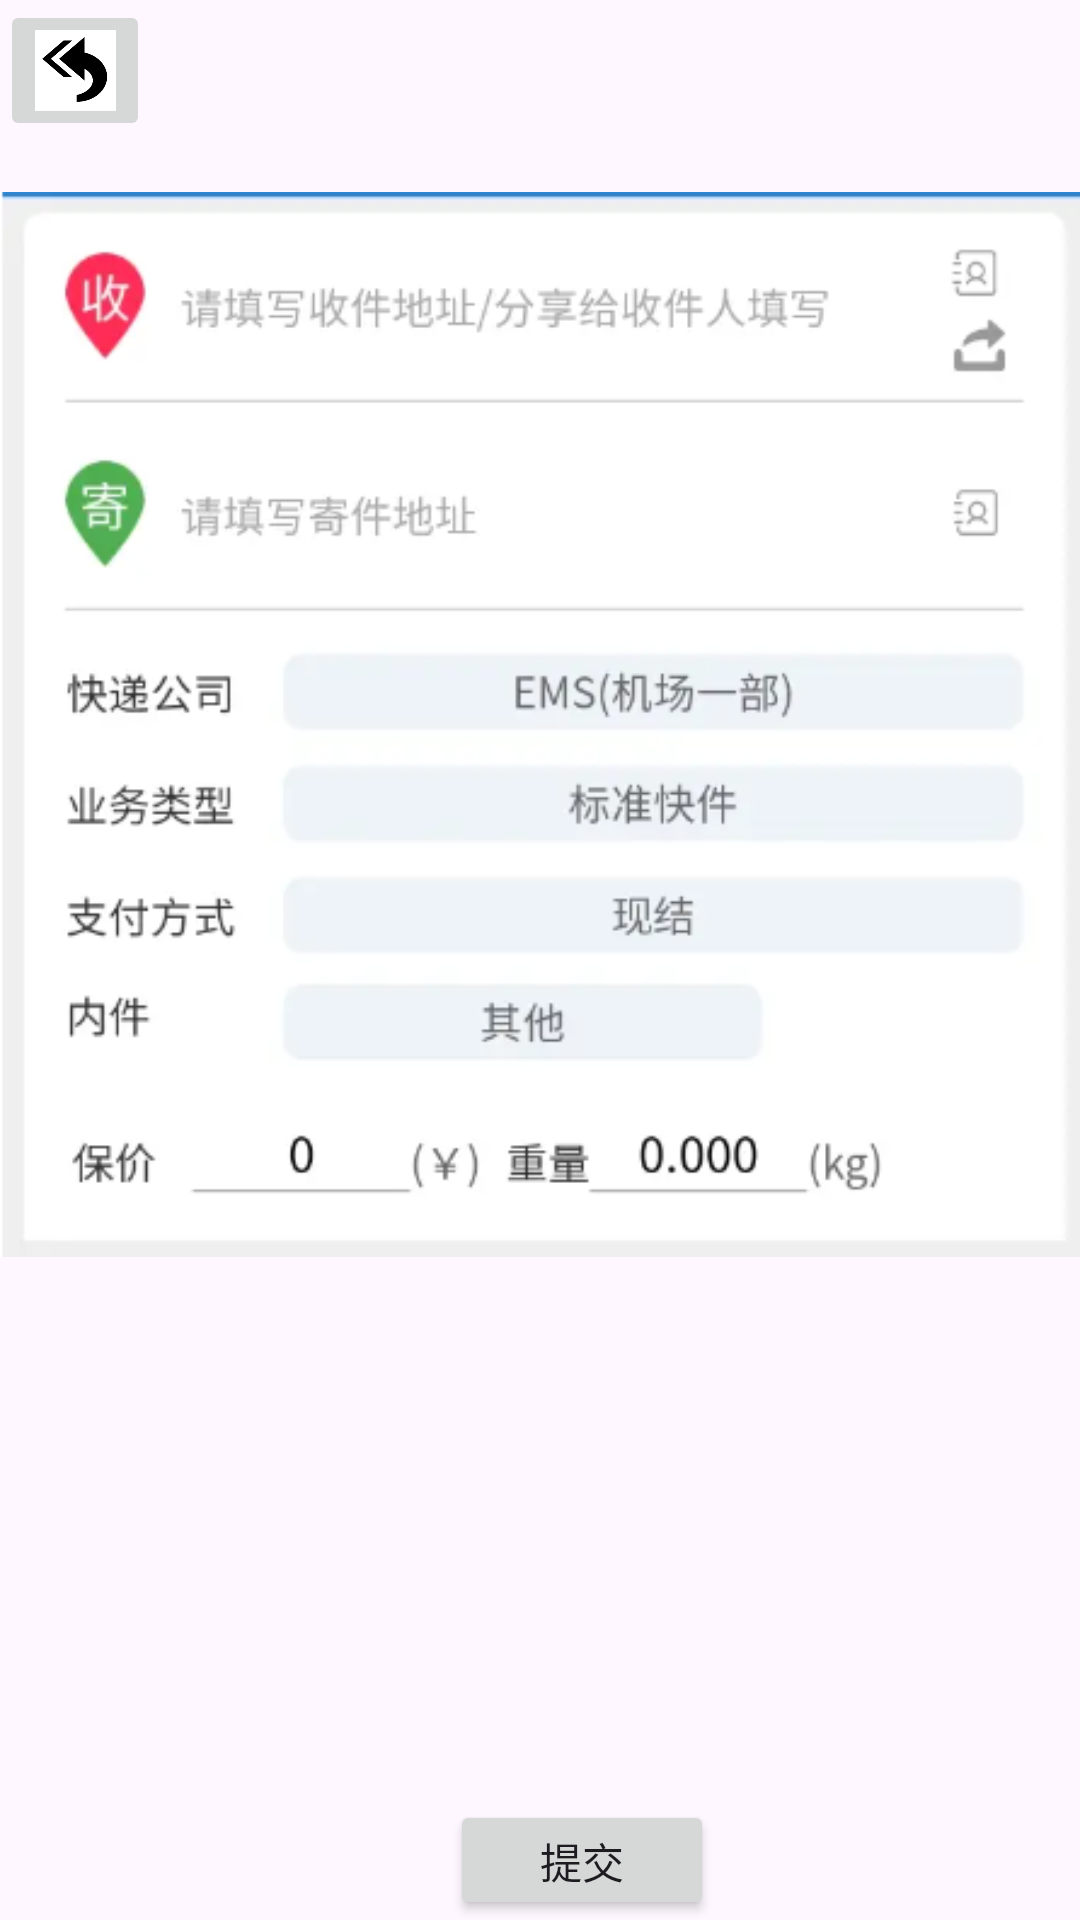

Screen size 1080*1920. Icon name, then its box in pixels as detection(x1, y1, x2, y2):
back: detection(12, 18, 138, 123)
